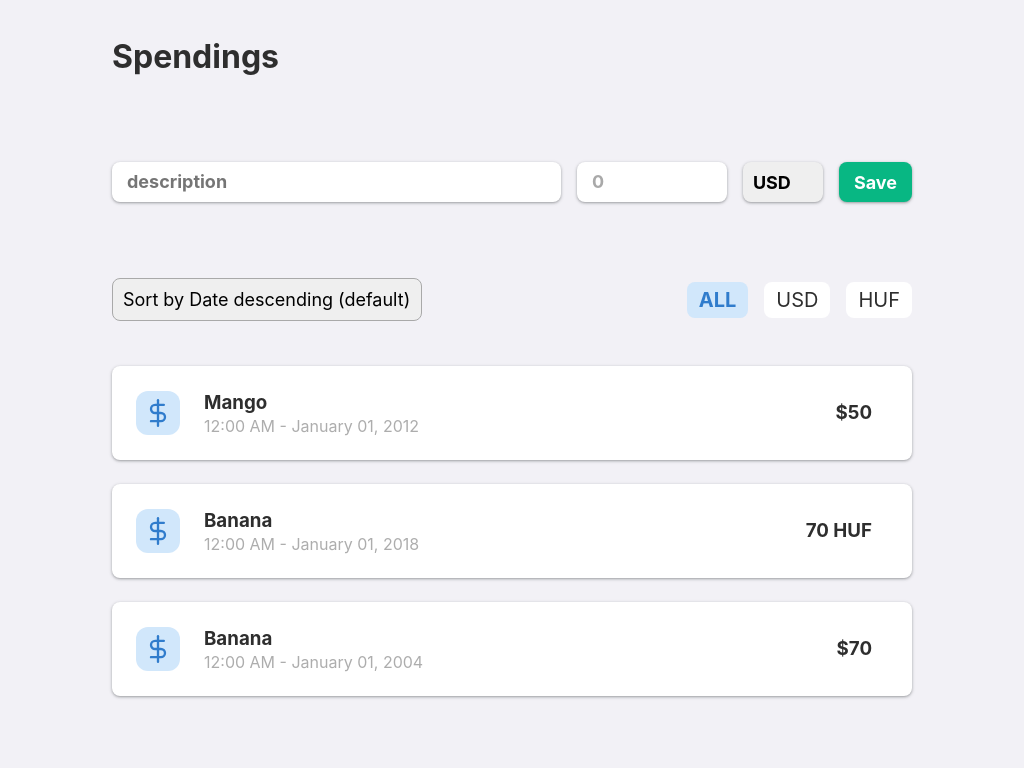
Test: App component › should should filter by currency
Expected: the number of elements with test id "spending-record" is 3, [112,366,912,460]; [112,484,912,578]; [112,602,912,696]
Step 1. Click the button with test id "filter-button-USD" → (797, 300), box [764,282,830,318]
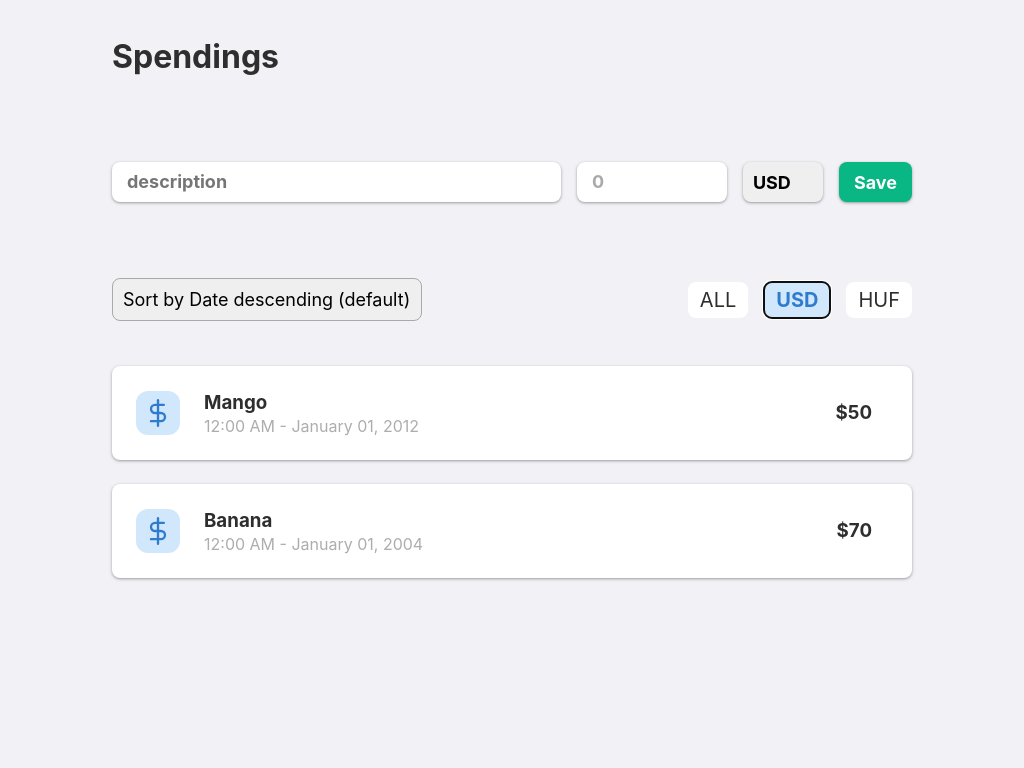
Now the number of elements with test id "spending-record" is 2, box [112,366,912,460]; [112,484,912,578]
Step 2. Click the button with test id "filter-button-HUF" → (879, 300), box [846,282,912,318]
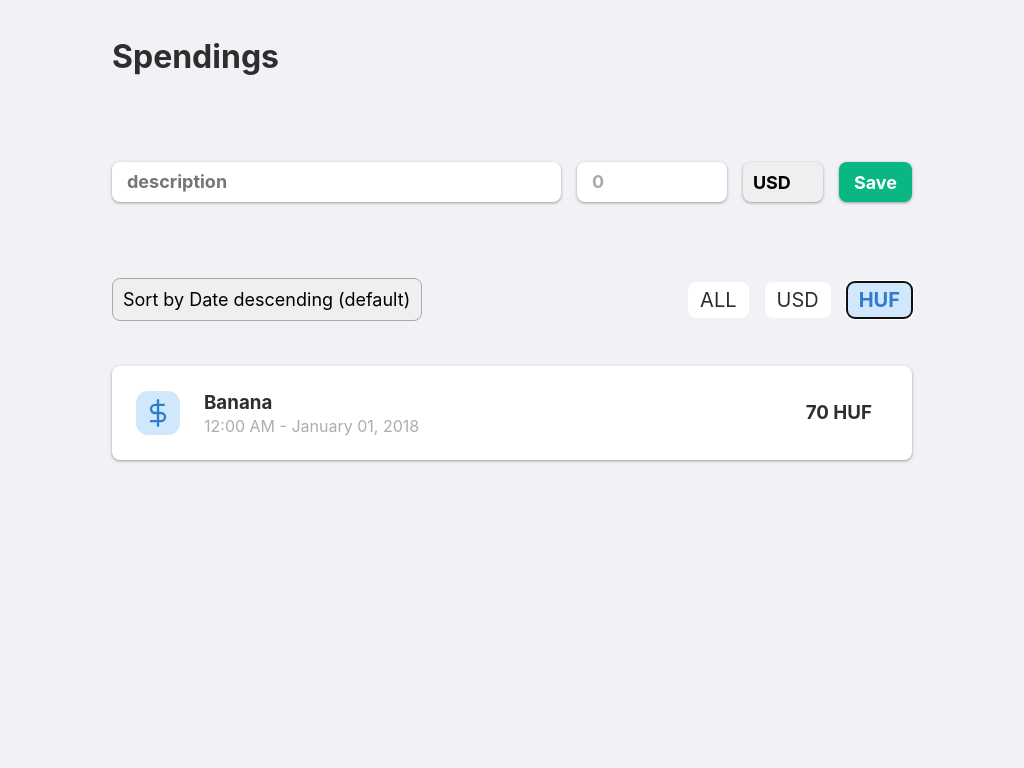
Now the number of elements with test id "spending-record" is 1, box [112,366,912,460]
Step 3. Click the button with test id "filter-button-ALL" → (718, 300), box [688,282,748,318]
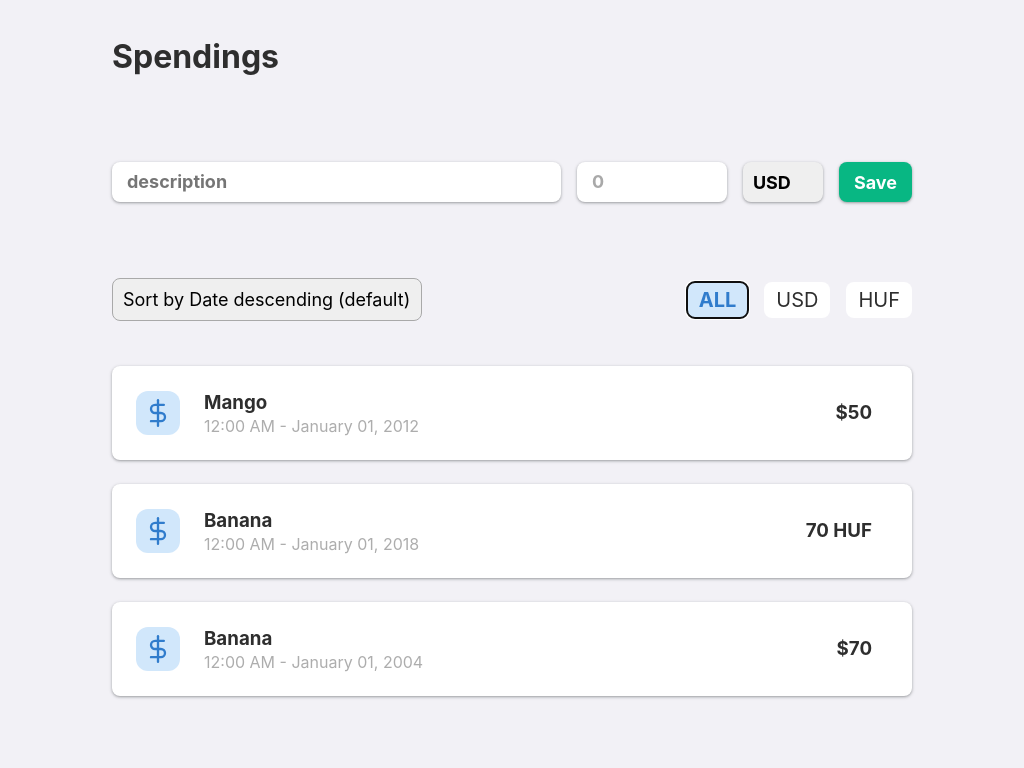
Now the number of elements with test id "spending-record" is 3, box [112,366,912,460]; [112,484,912,578]; [112,602,912,696]
